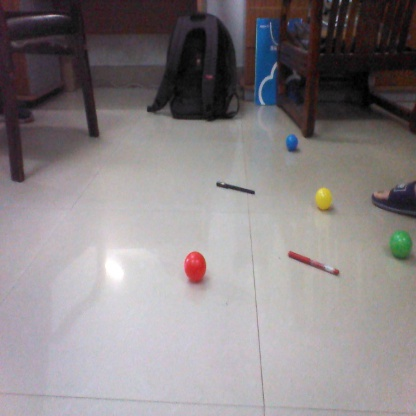ball: (183, 251, 210, 283), (386, 227, 414, 257), (316, 189, 337, 208), (286, 134, 301, 150)
pen: (286, 252, 342, 274), (215, 181, 259, 196)
